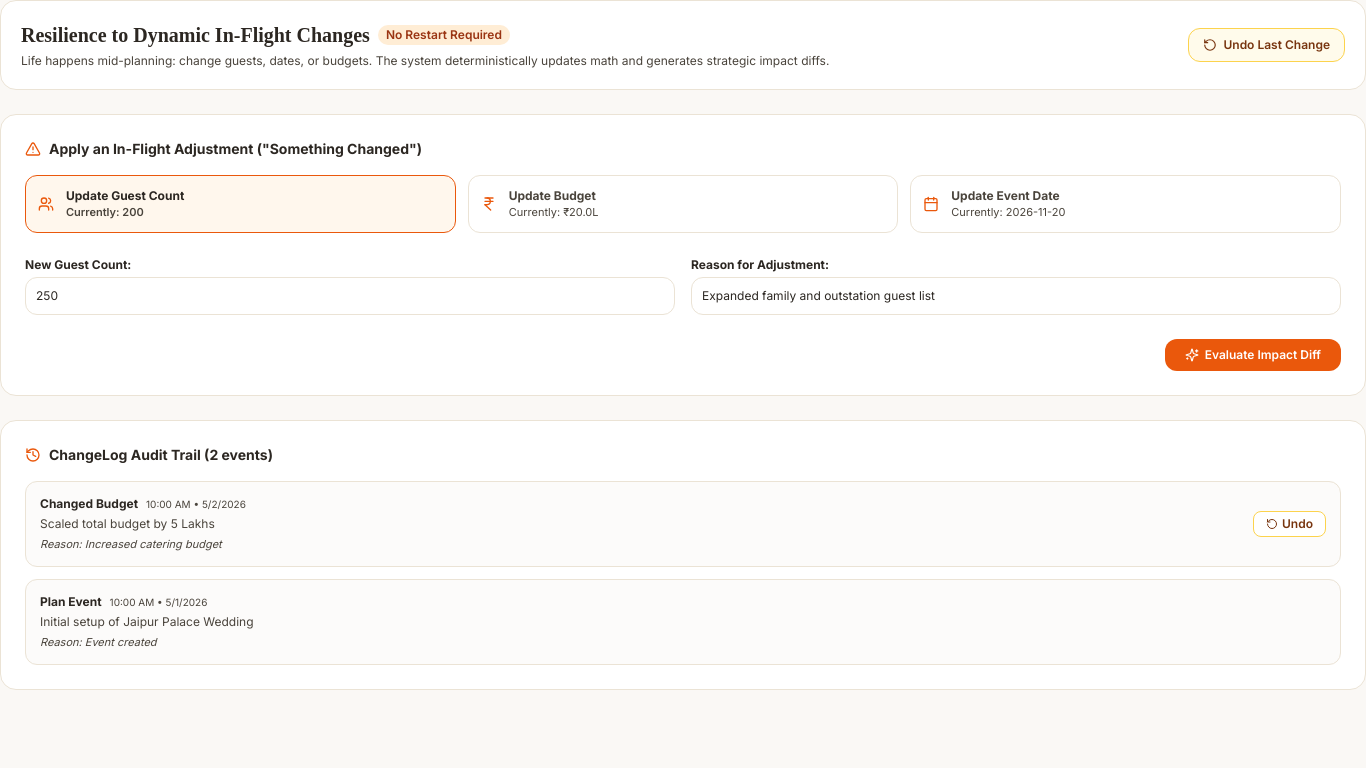
Test case: ChangesTab Component › handles evaluation error gracefully
Click the button "Evaluate Impact Diff" at (1253, 355), box [1165, 339, 1341, 371]
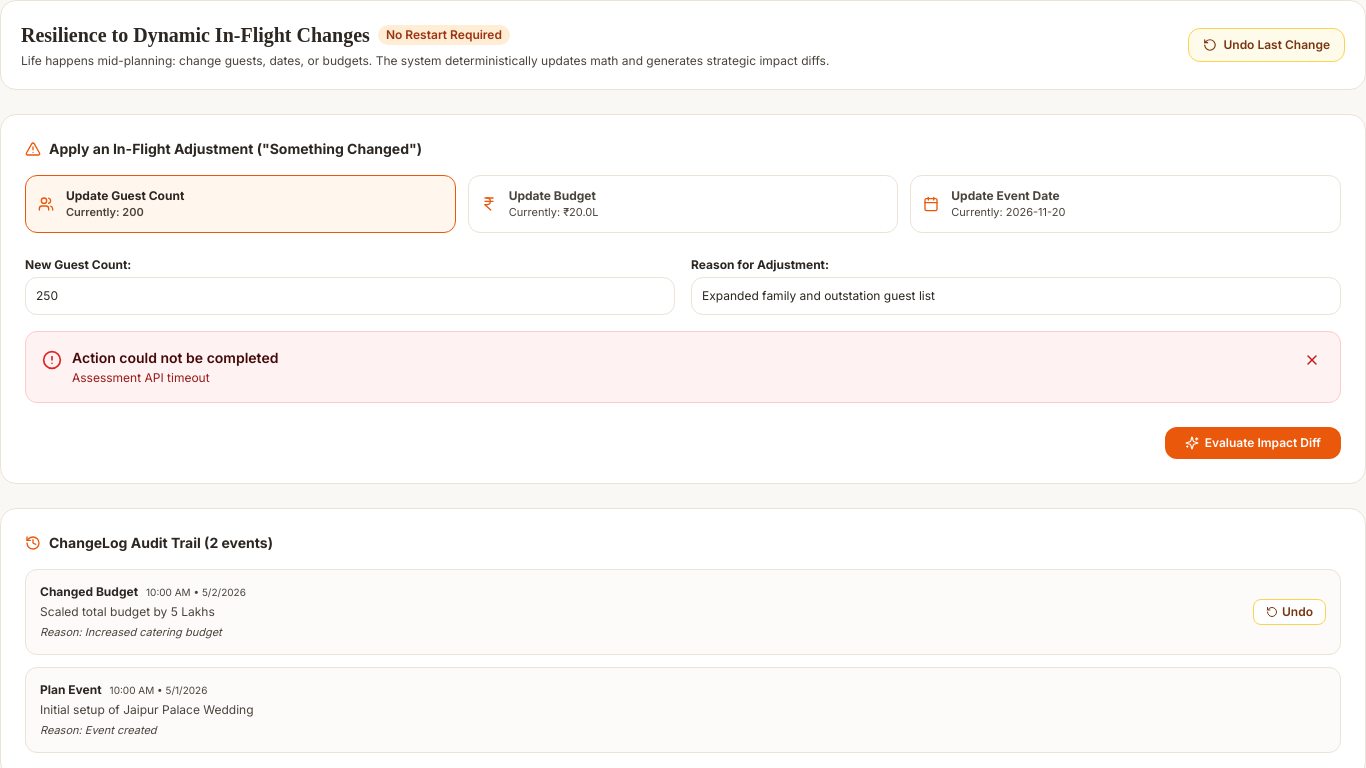
Check: the text "Assessment API timeout" is shown, box [72, 370, 210, 385]
